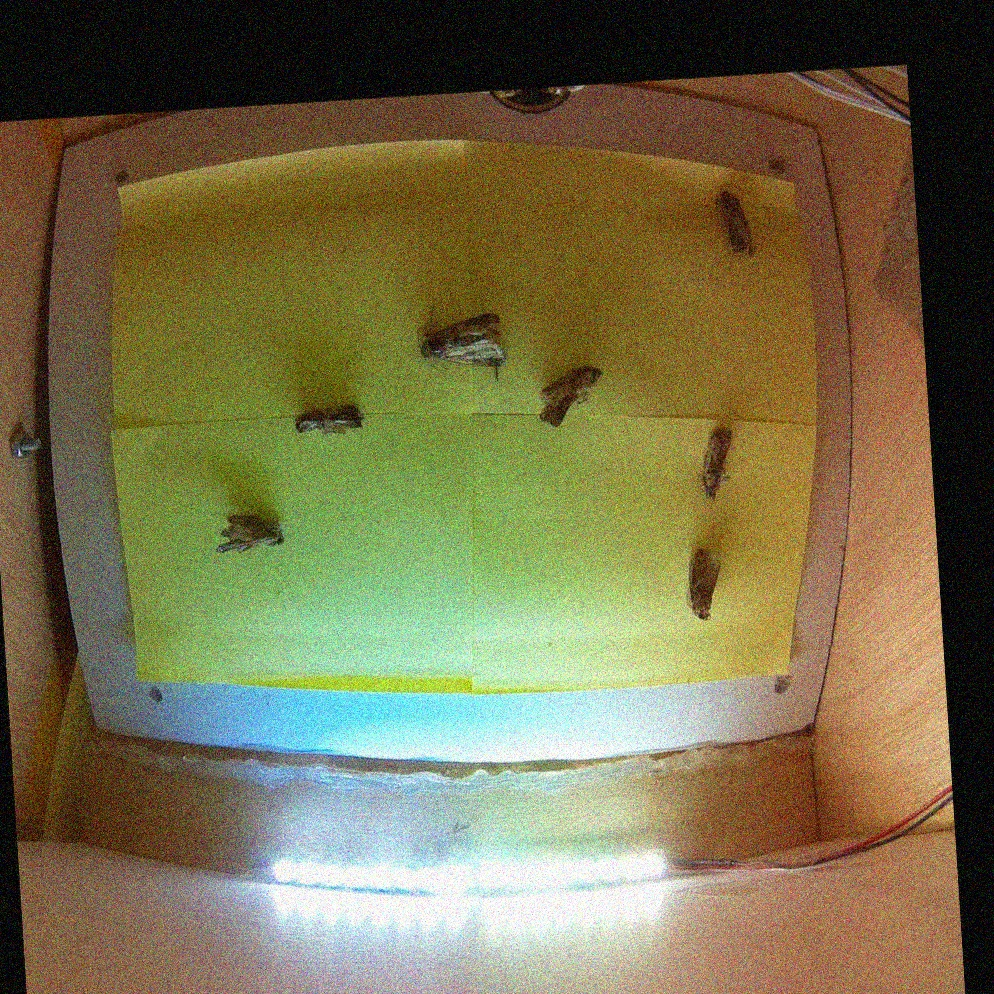Spodoptera litura: (418, 300, 505, 384), (537, 364, 604, 426), (213, 511, 284, 554), (715, 188, 756, 258), (698, 426, 735, 499), (687, 544, 721, 620), (291, 406, 365, 435)
